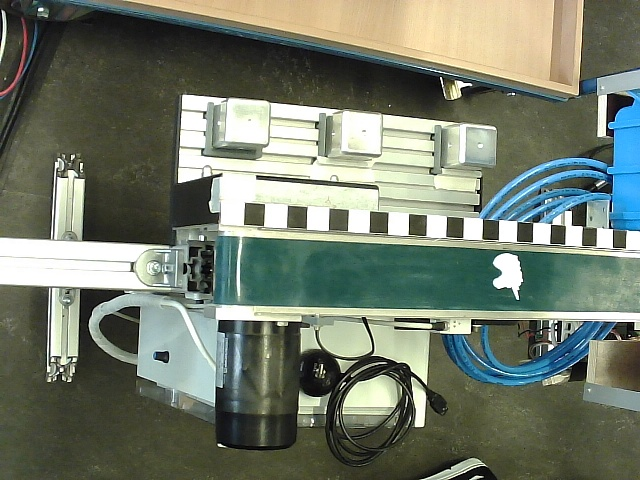unicorn: (492, 253, 524, 301)
